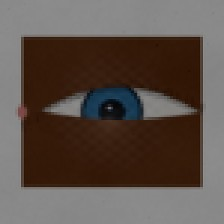hemorrhage_spot: (76, 77, 140, 127)
